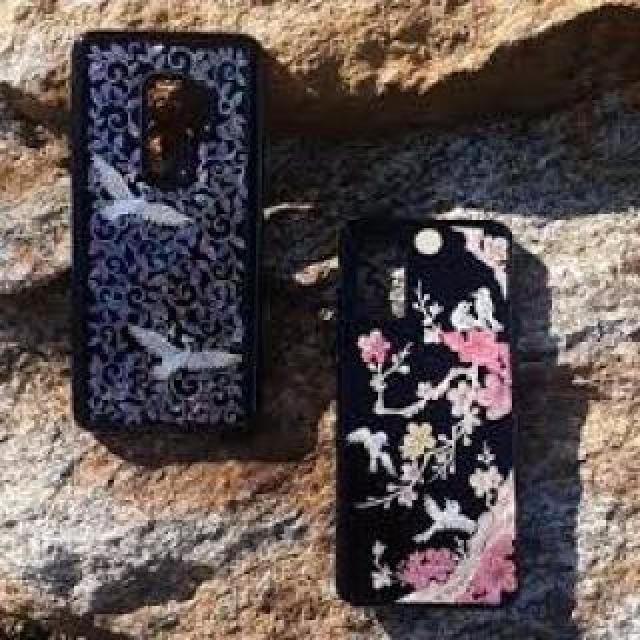smart phone: (55, 22, 297, 478), (327, 208, 568, 640)
